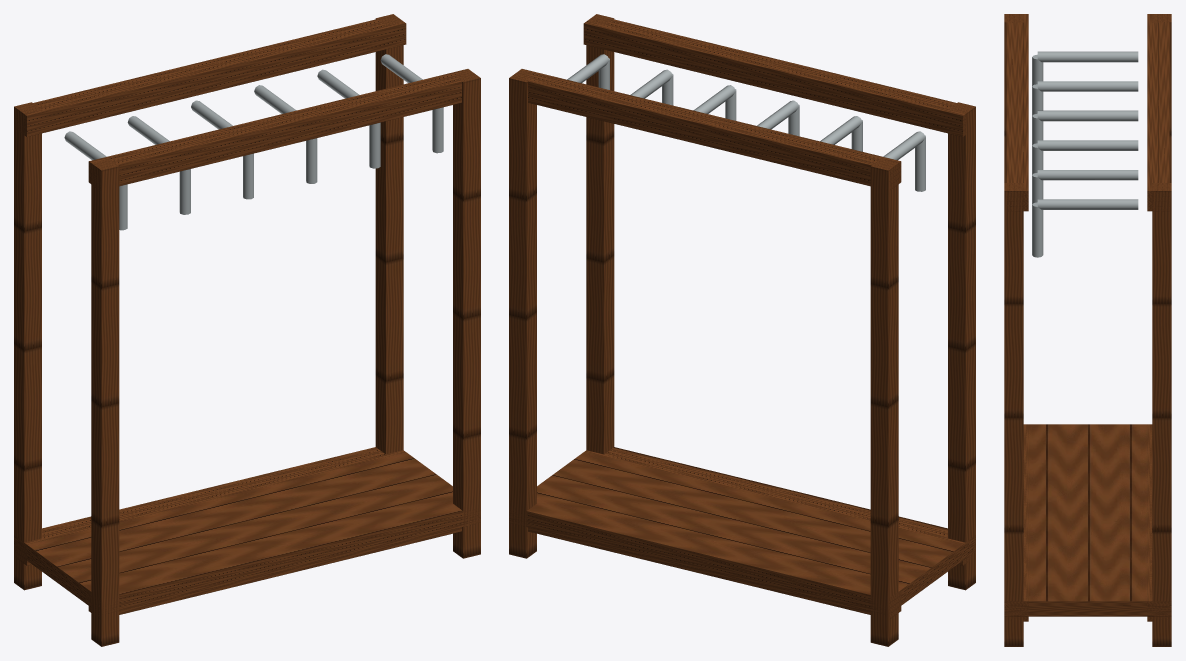
The model's file is rural-scavenging-settlements-hanging-meat-rail-9f1cc69e__26576.glb.
3 renders of one model, left to right at view 1: azimuth 30°, elevation 25°; view 2: azimuth 150°, elevation 25°; view 3: azimuth 270°, elevation 25°, orthographic. The views are drawn at different scales.
Visible parts, largest first — view 1: hanging-meat-rail; view 2: hanging-meat-rail; view 3: hanging-meat-rail.
Part boxes in pixels (x1,y1,x2,y2): hanging-meat-rail: (14, 14, 480, 646); hanging-meat-rail: (509, 14, 975, 646); hanging-meat-rail: (1004, 14, 1171, 646).
Size of the model in its own units: 1.5 by 1.8 by 0.5999.
2 materials, 1 textured.
